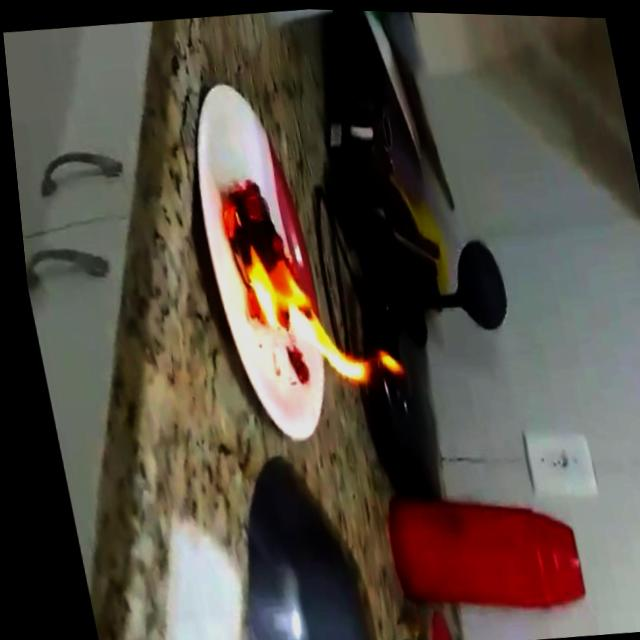Fire: (205, 162, 402, 399)
